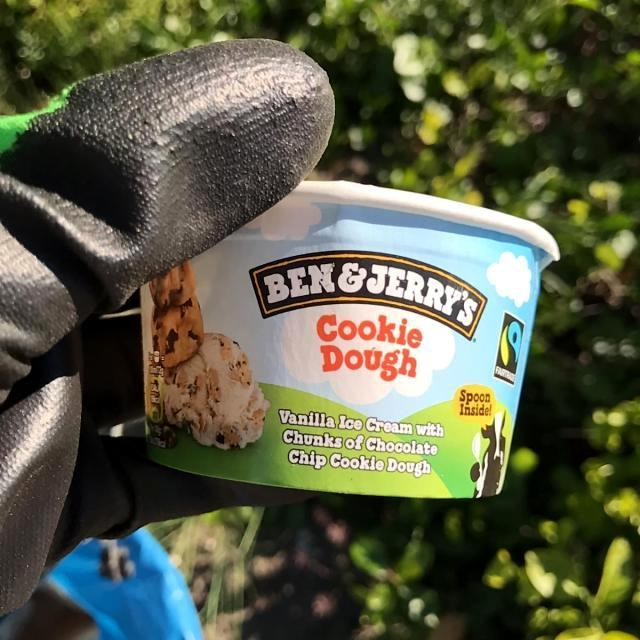Paper: (136, 170, 568, 506)
